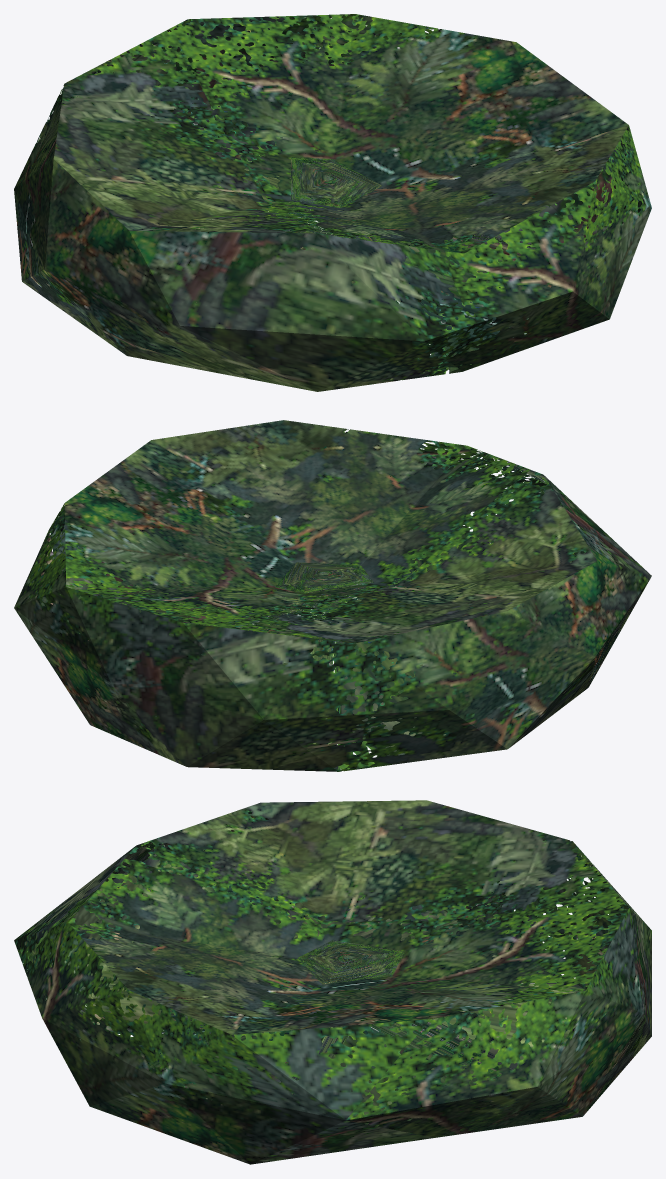
Rendered from MTree_9_Bch_1.gltf.
3 renders of one model, top to bottom at view 1: azimuth 30°, elevation 25°; view 2: azimuth 150°, elevation 25°; view 3: azimuth 270°, elevation 25°, orthographic. The views are drawn at different scales.
Visible parts, largest first — view 1: MTree_9_Bch_1; view 2: MTree_9_Bch_1; view 3: MTree_9_Bch_1.
Boxes of the visible parts, bbox=[...] form: MTree_9_Bch_1: bbox=[14, 14, 651, 391]; MTree_9_Bch_1: bbox=[14, 420, 651, 771]; MTree_9_Bch_1: bbox=[14, 800, 651, 1164].
Size of the model in its own units: 6.1 by 1.59 by 6.02.
1 material, 1 textured.
